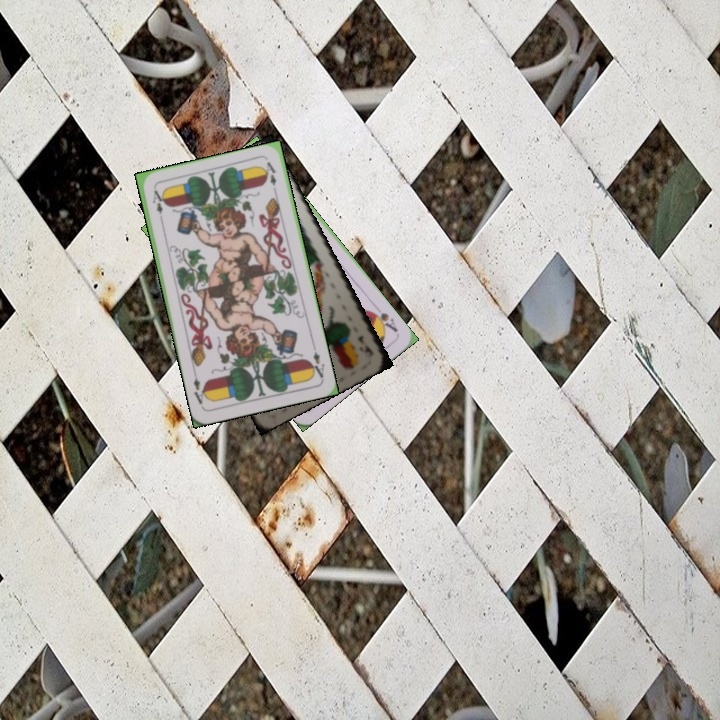EA: (306, 341, 327, 380), (148, 184, 165, 216)
EK: (354, 331, 376, 360)
SA: (366, 306, 401, 335)
